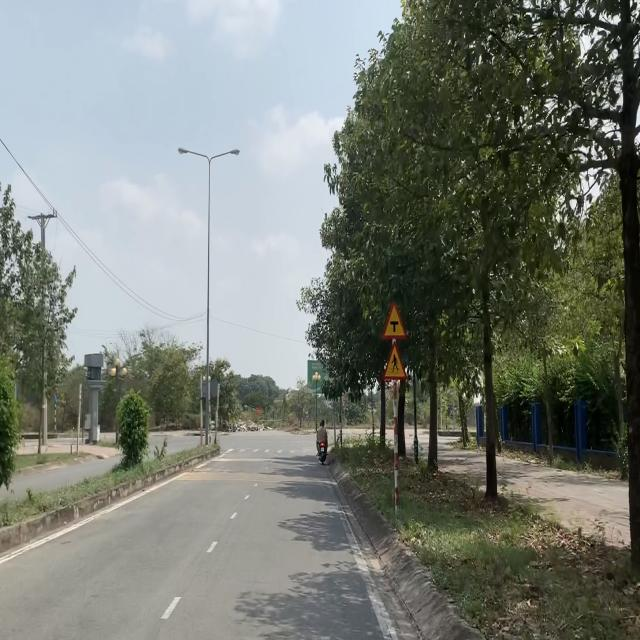Duong giao nhau: (381, 299, 408, 342)
Nguoi di bo cat ngang: (381, 339, 409, 382)
